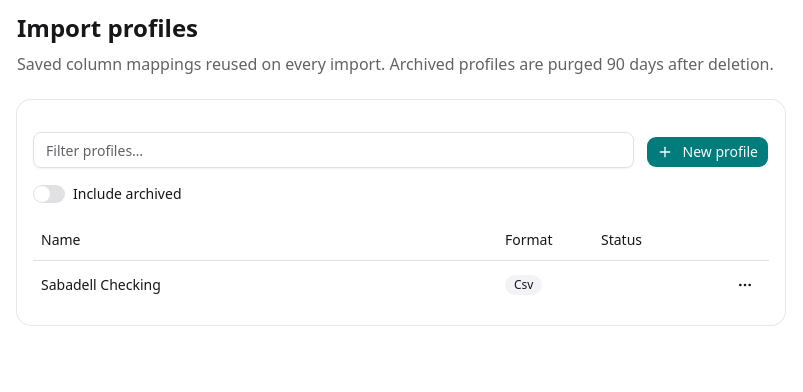
Test: ProfilesLayout › toggling Include archived shows archived rows with daysUntilPurge
The image size is (803, 392).
Expected: the text "Sabadell Checking" is shown, top-left (33, 260), bottom-right (497, 308)
Click the switch named "include archived" at (49, 194), box top-left (33, 185), bottom-right (65, 203)
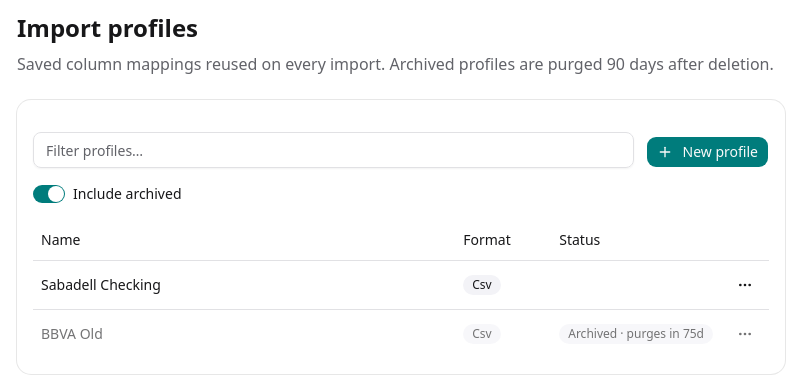
Result: the text "BBVA Old" is shown at top-left (33, 309), bottom-right (455, 358)
Result: the text "Archived · purges in 75d" is shown at top-left (559, 324), bottom-right (713, 344)
